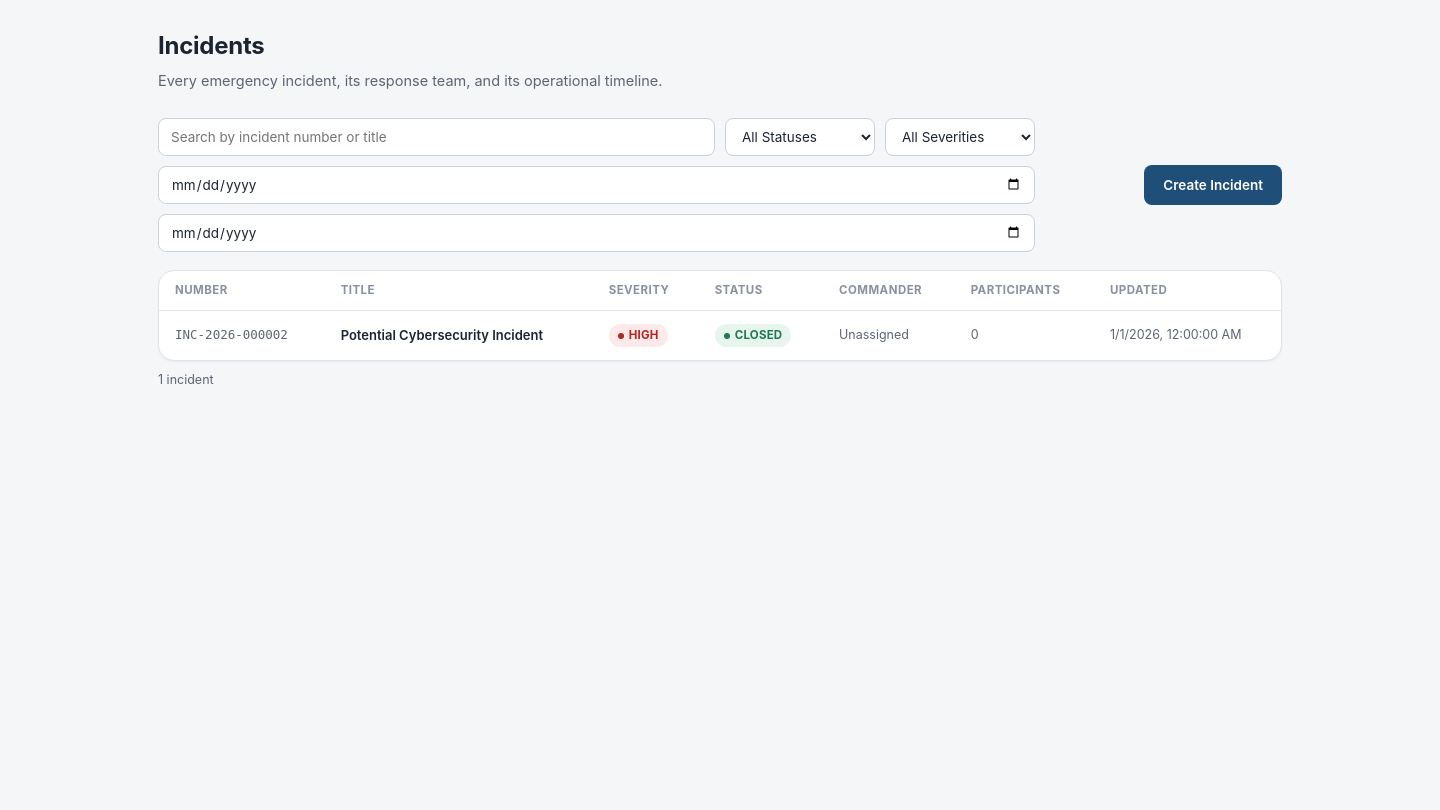
it: IncidentsPage › Command Center tab › hides the quick Create Alert shortcut for a closed incident (the backend would reject it)
Click the text "Potential Cybersecurity Incident": x=459, y=335 x1=325 y1=310 x2=593 y2=360
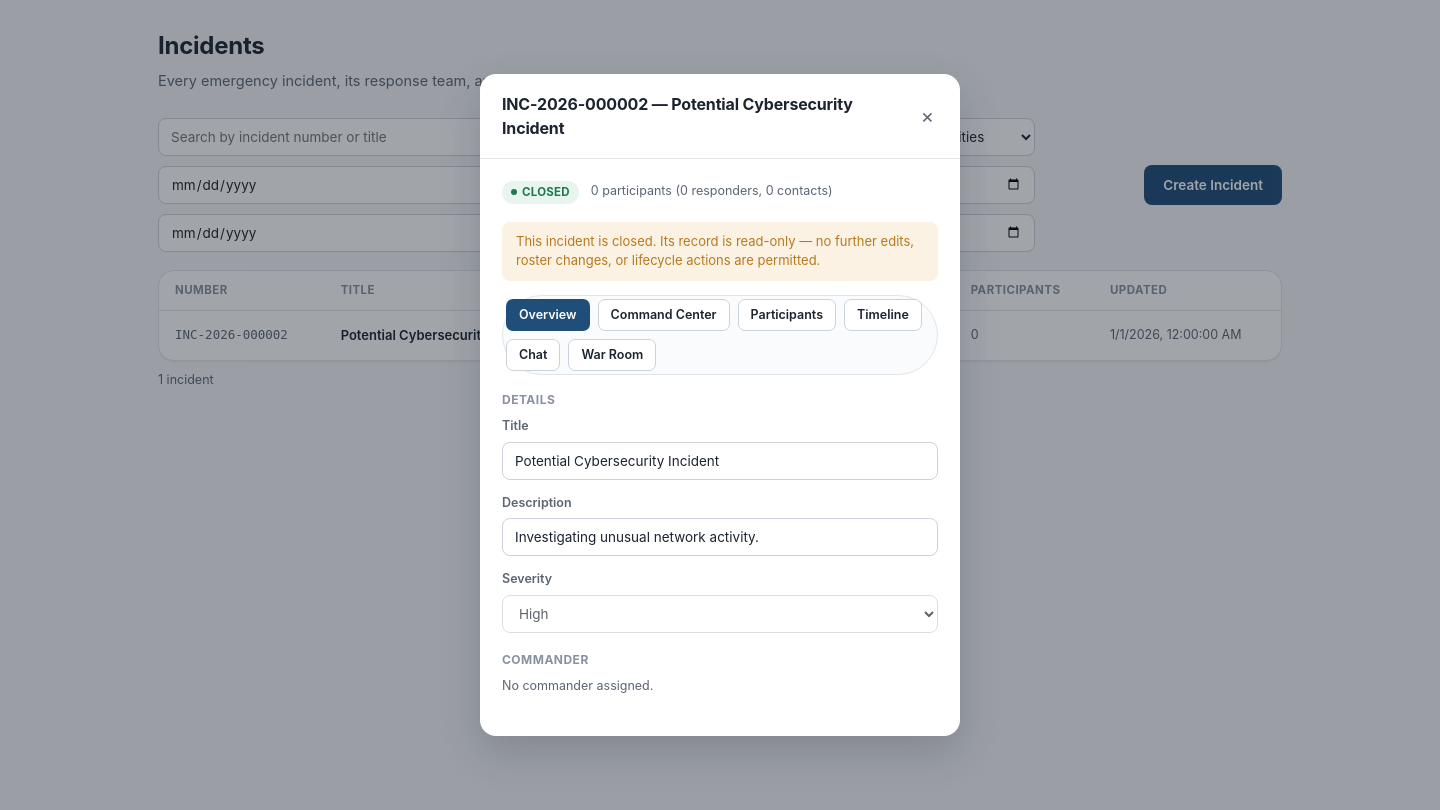
Click the button "Command Center": x=664, y=315 x1=598 y1=299 x2=730 y2=331
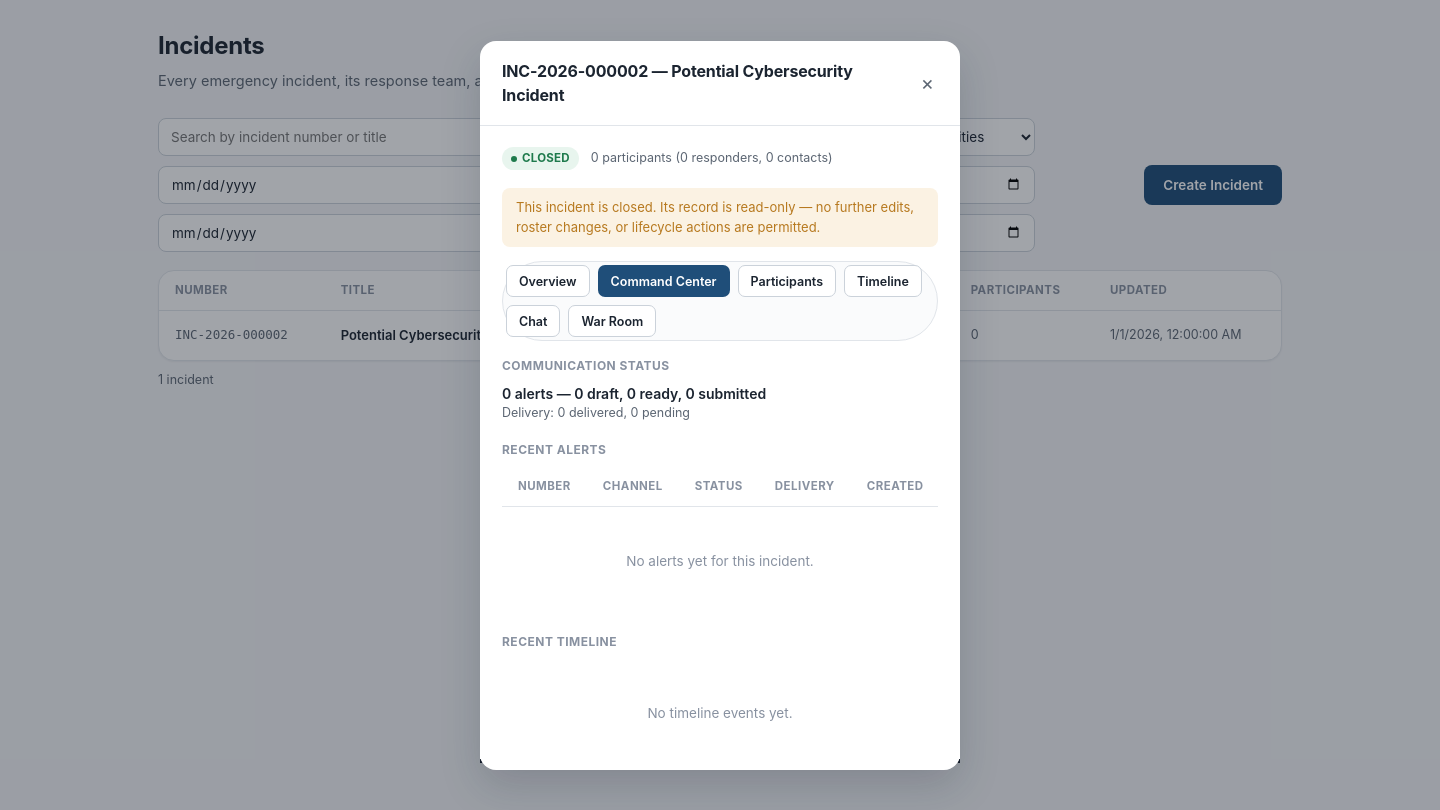
Check: the text "0 alerts — 0 draft, 0 ready, 0 submitted" is shown, box x1=502 y1=385 x2=766 y2=402
